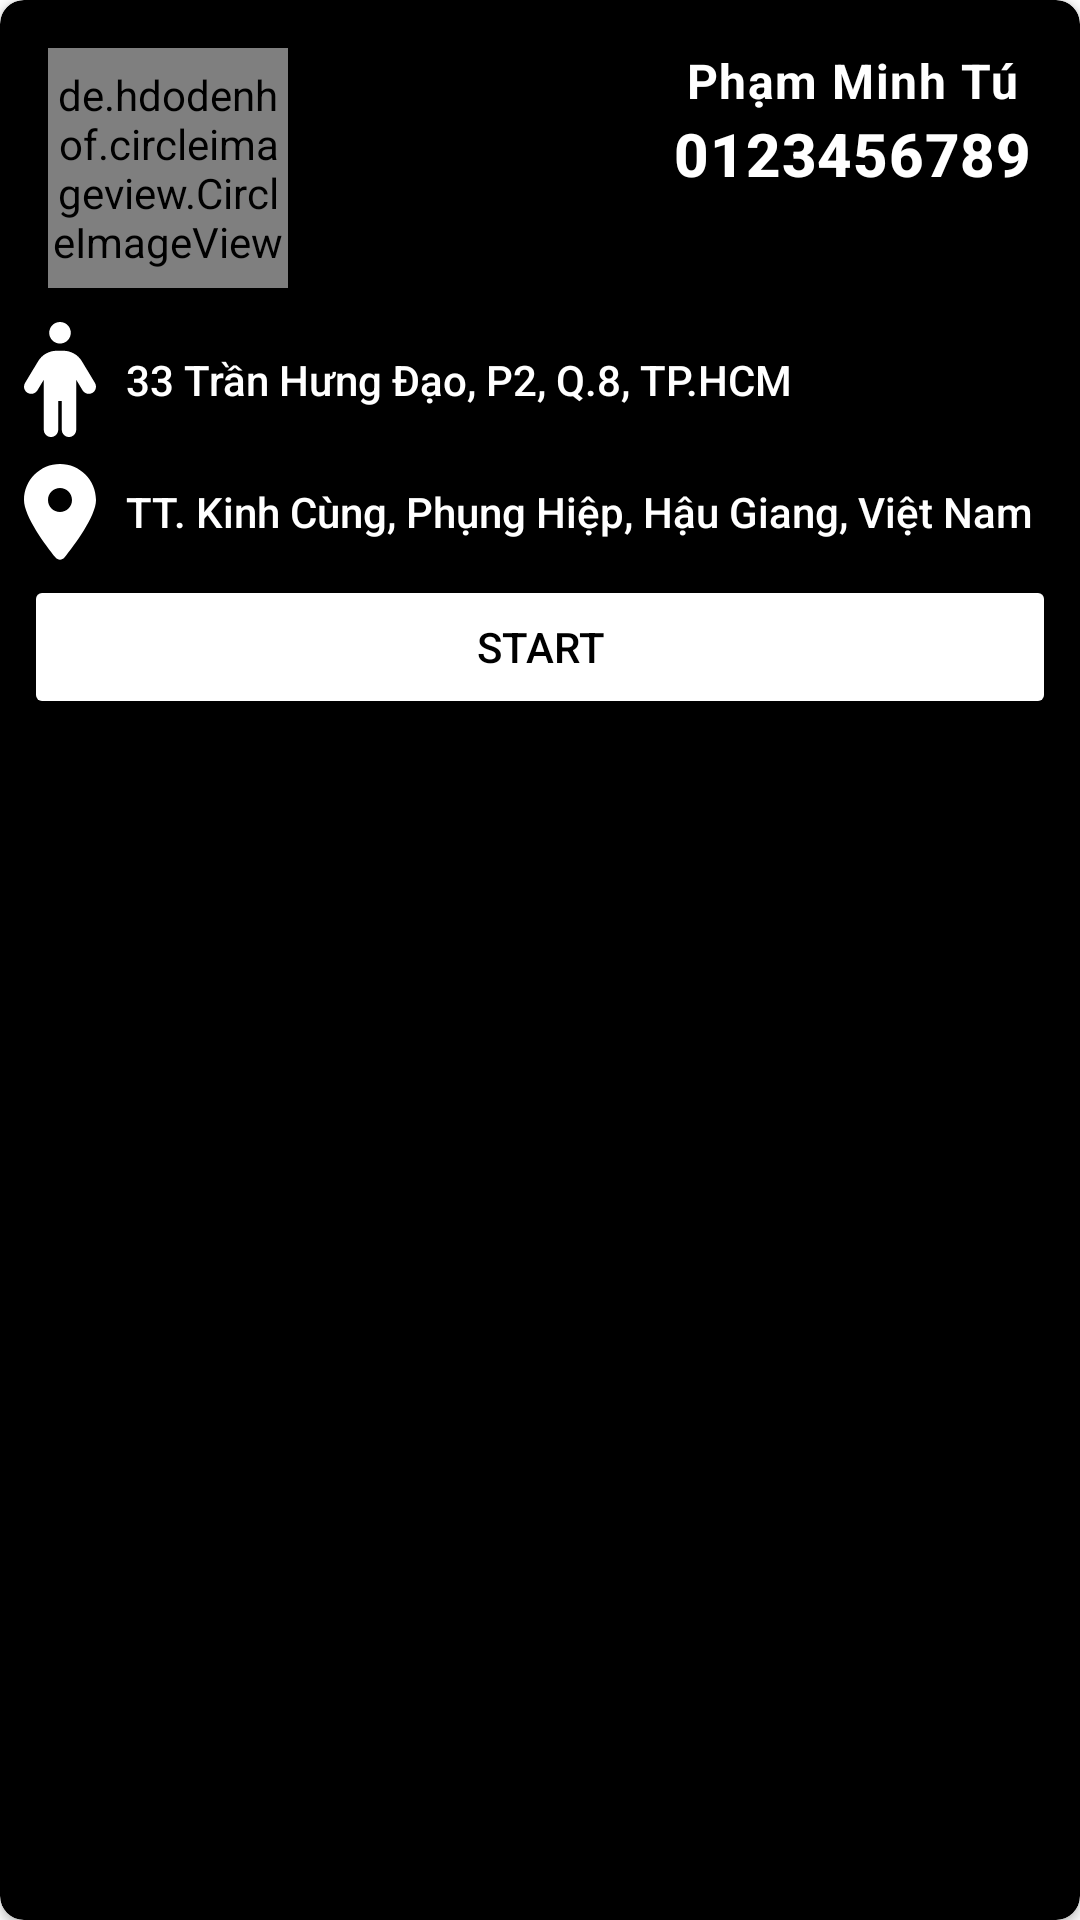

Screen size 1080 × 1920. Icon name, then its center in pixels as (x=x, y=y):
location dot: (x=60, y=512)
person: (x=60, y=379)
